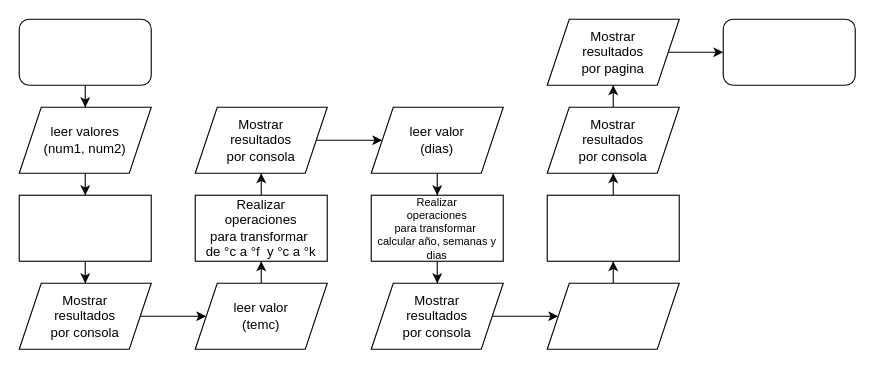
The diagram is 875 pixels wide and 369 high, and some of its shapes have lost their labels. The centre of each missing label's shape, as x and y in pixels:
"Fin" goes at (788,51).
"Inicio" goes at (84,51).
"leer valores (n valores)" goes at (612,315).
"Realizar operaciones de + - * / %" goes at (84,227).
"Realizar operaciones para sumar y calcular promedio" goes at (612,227).
